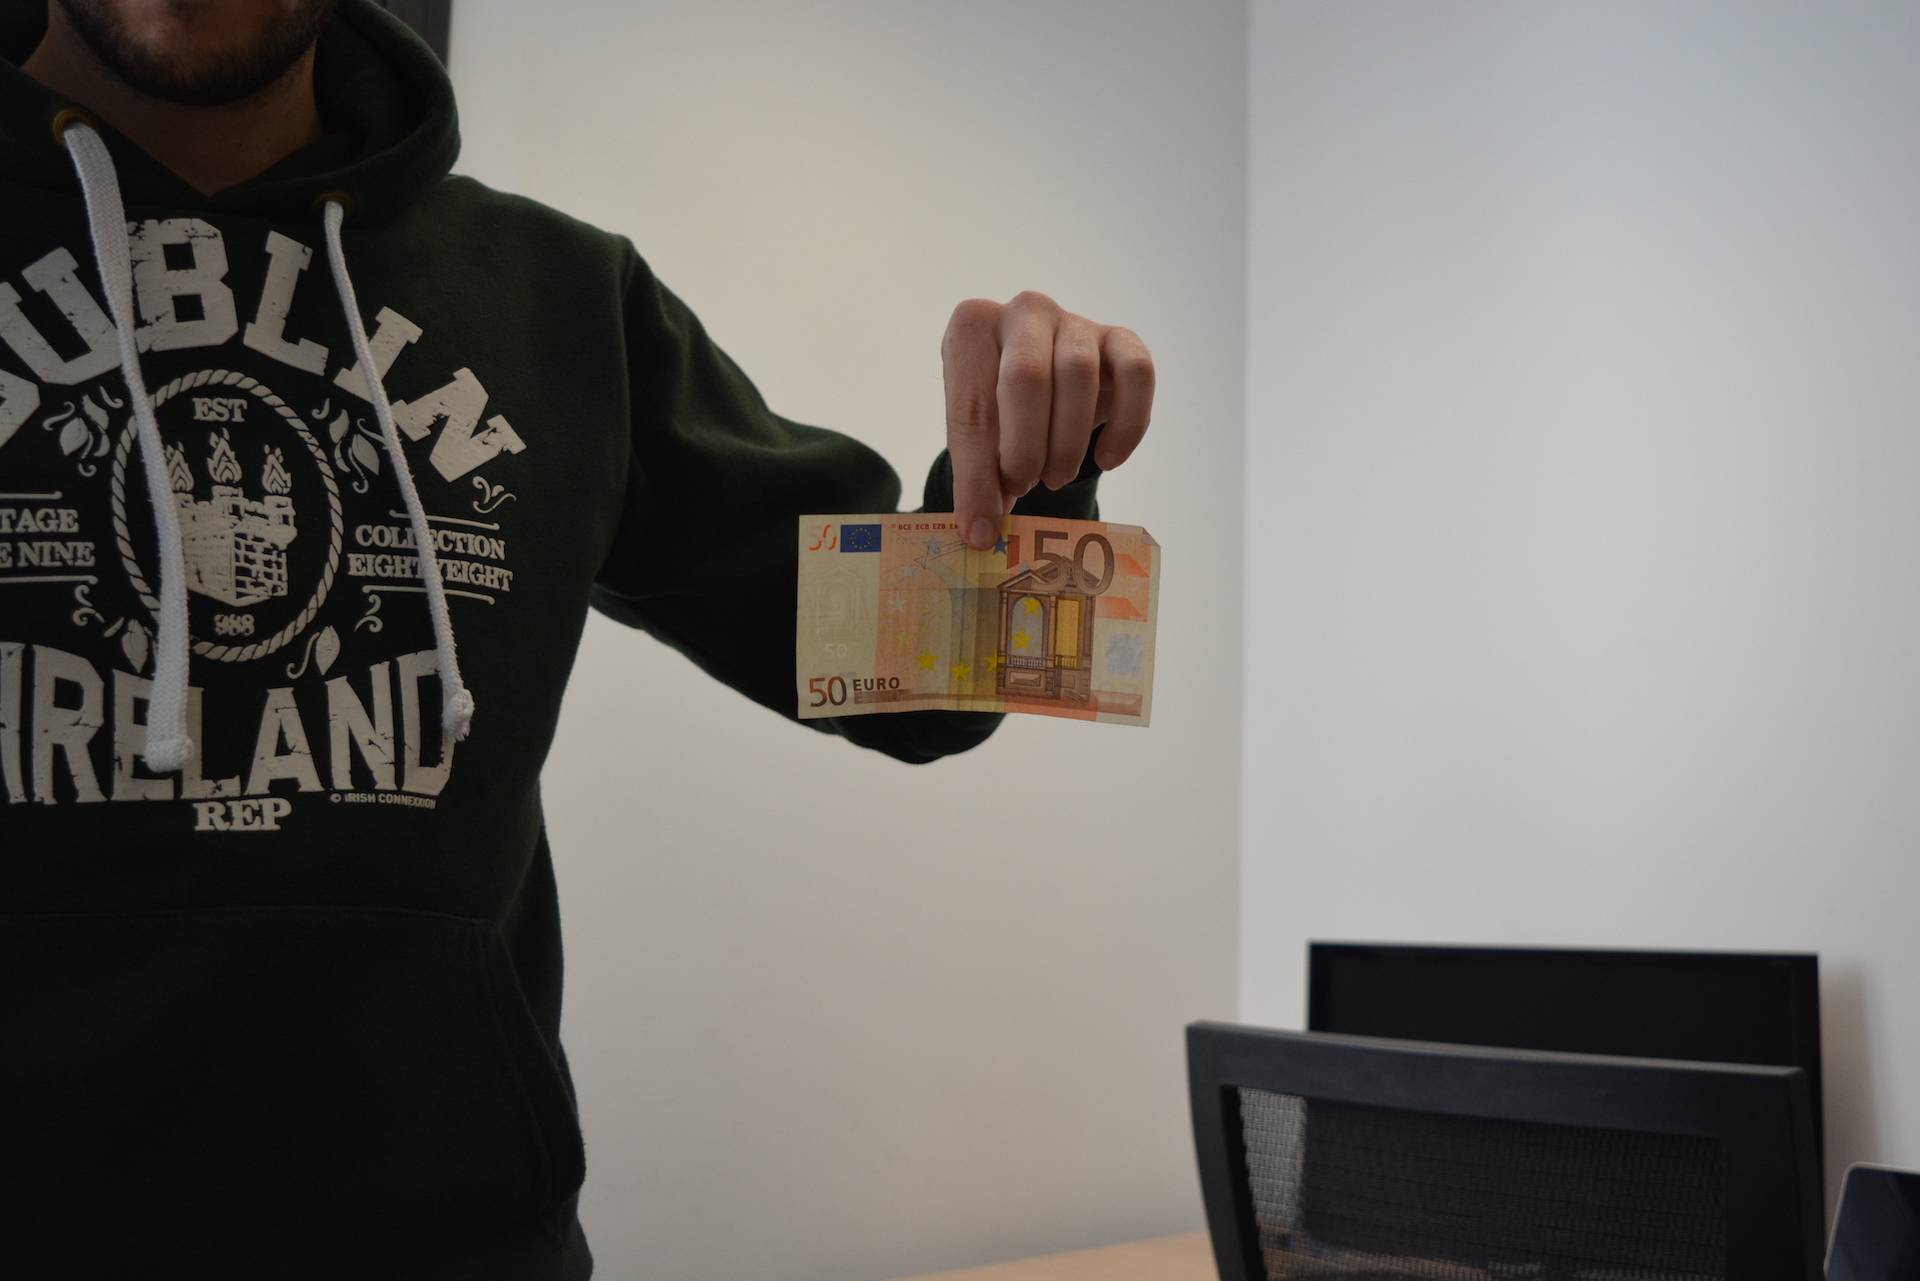billete: (795, 510, 1162, 729)
